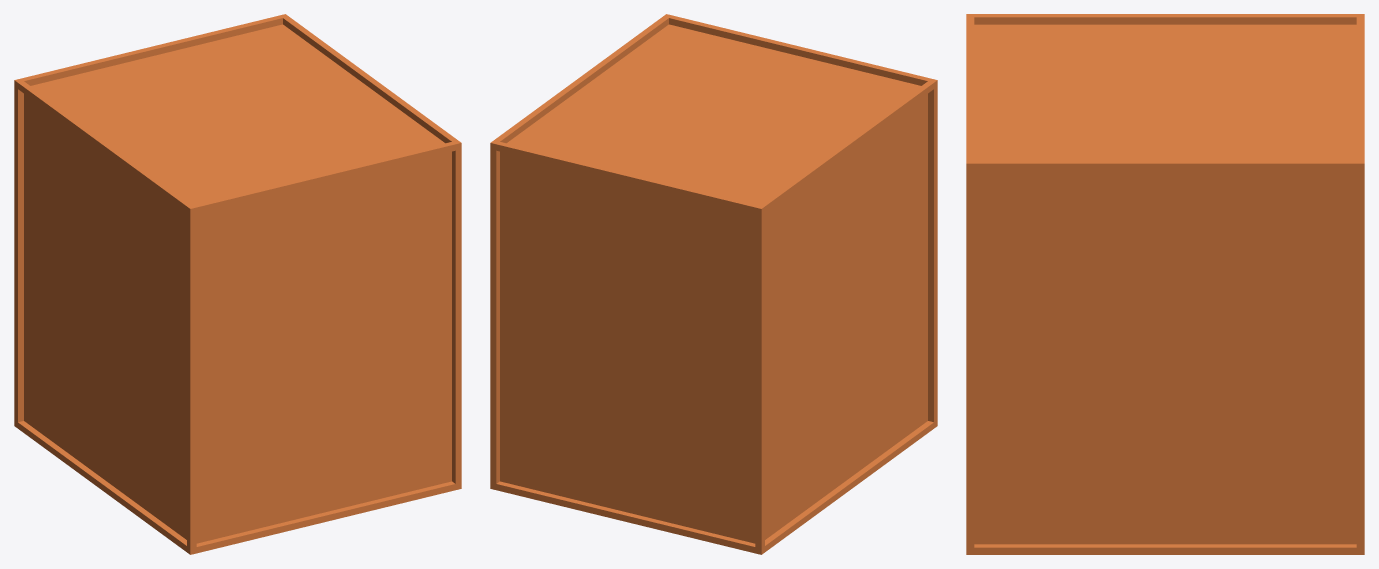
3 renders of one model, left to right at view 1: azimuth 30°, elevation 25°; view 2: azimuth 150°, elevation 25°; view 3: azimuth 270°, elevation 25°, orthographic. The views are drawn at different scales.
Visible parts, largest first — view 1: Box001; view 2: Box001; view 3: Box001.
Boxes of the visible parts, left/top/right/bottom form: Box001: left=14, top=14, right=461, bottom=554; Box001: left=490, top=14, right=937, bottom=554; Box001: left=966, top=14, right=1364, bottom=554.
Size of the model in its own units: 44.7 by 54.49 by 50.26.
